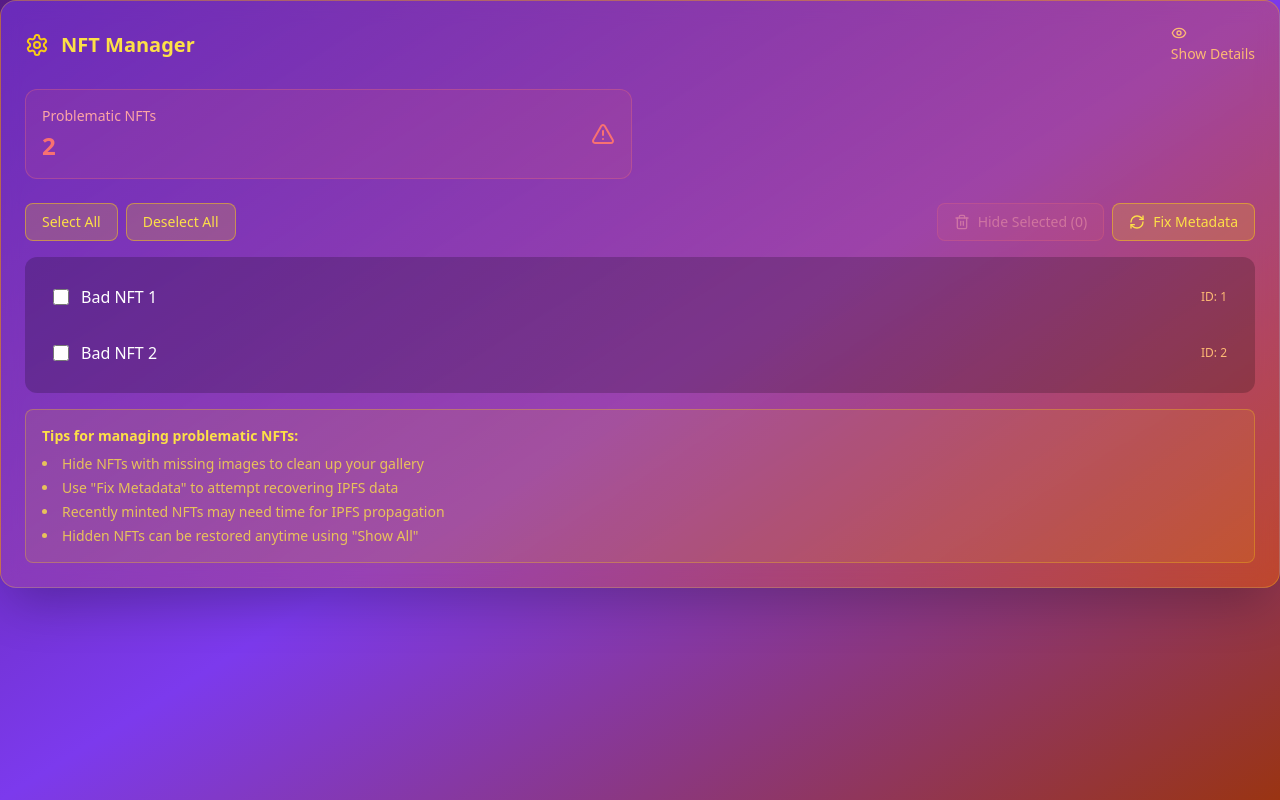
Test: NFTManager Component › handles NFT selection and deselection
// Select first NFT
Step 1. Click the checkbox labelled "Bad NFT 1 ID: 1" → (61, 297), box [53,289,69,305]
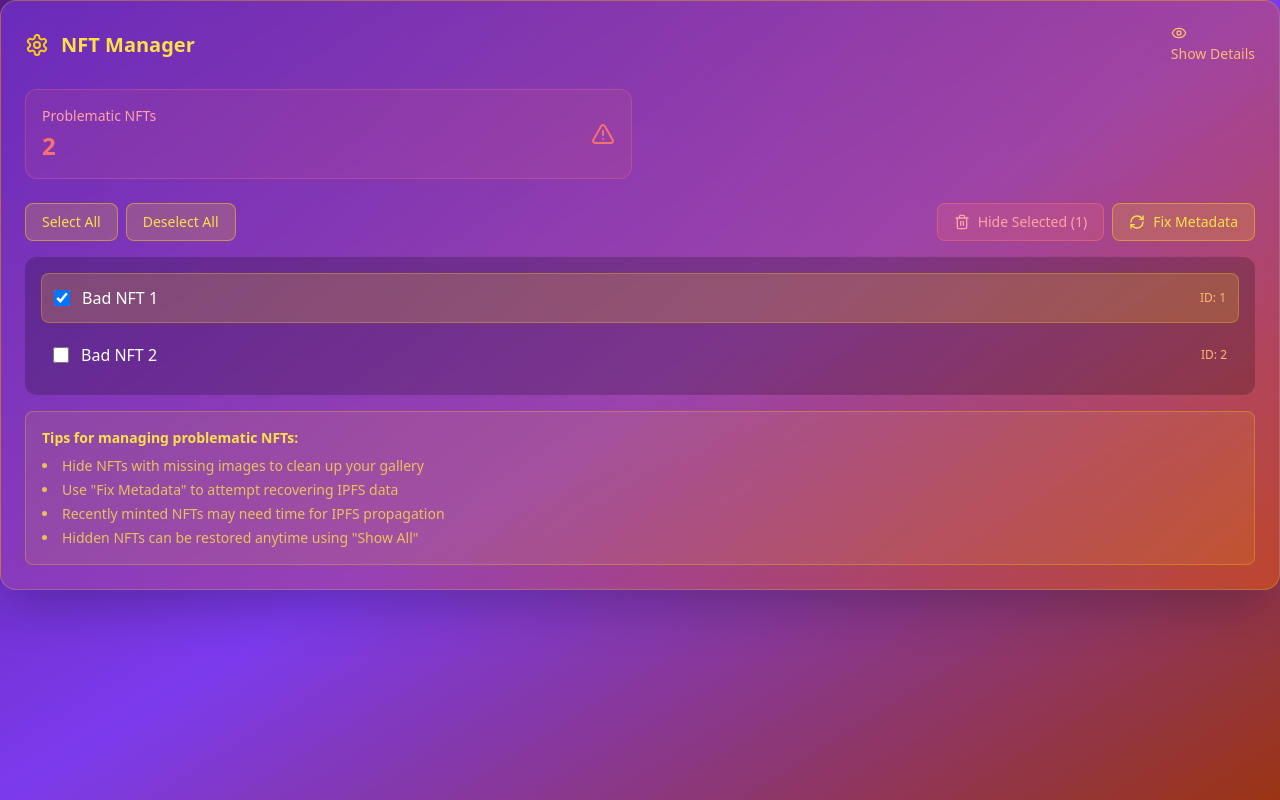
Result: the button "Hide Selected (1)" is shown at [937,203,1104,241]
// Select all
Step 2. Click the button "Select All" → (71, 222), box [25,203,118,241]
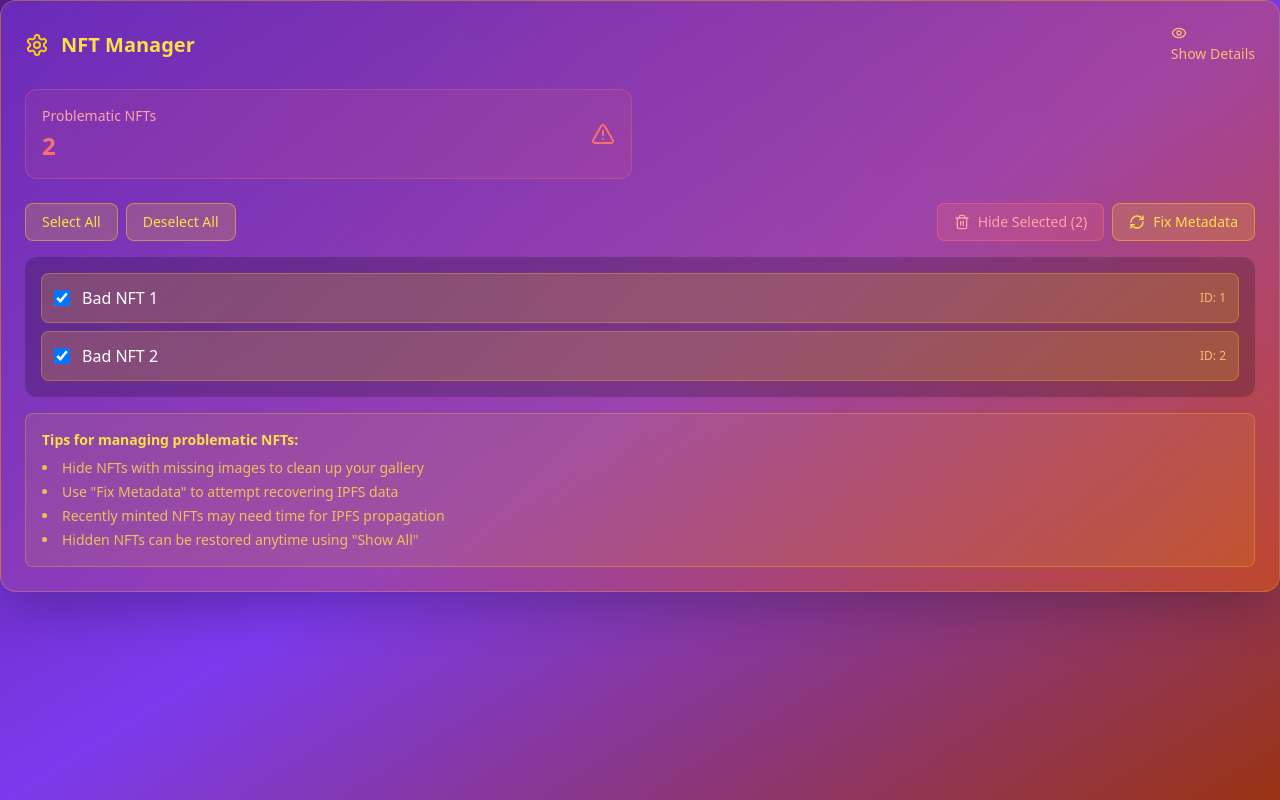
Result: the button "Hide Selected (2)" is shown at [937,203,1104,241]
// Deselect all
Step 3. Click the button "Deselect All" → (181, 222), box [126,203,236,241]
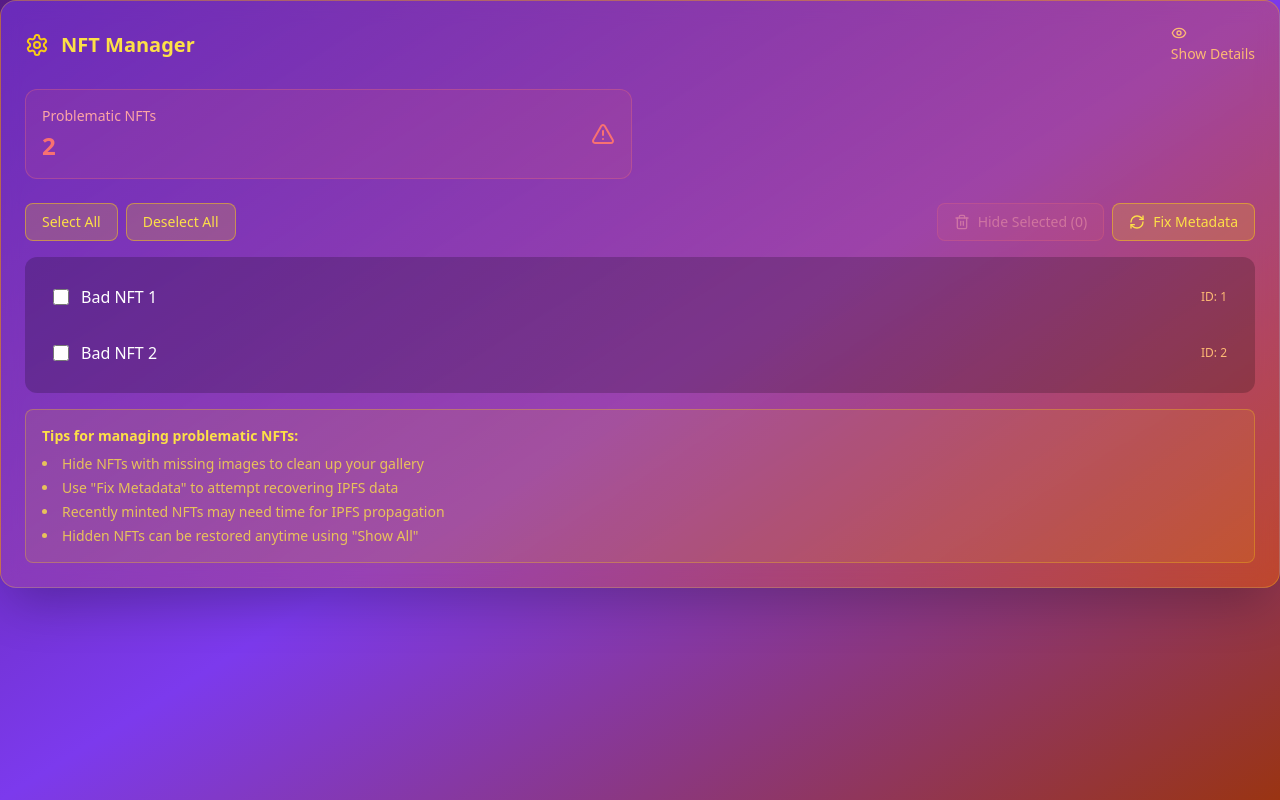
Result: the button "Hide Selected (0)" is shown at [937,203,1104,241]
